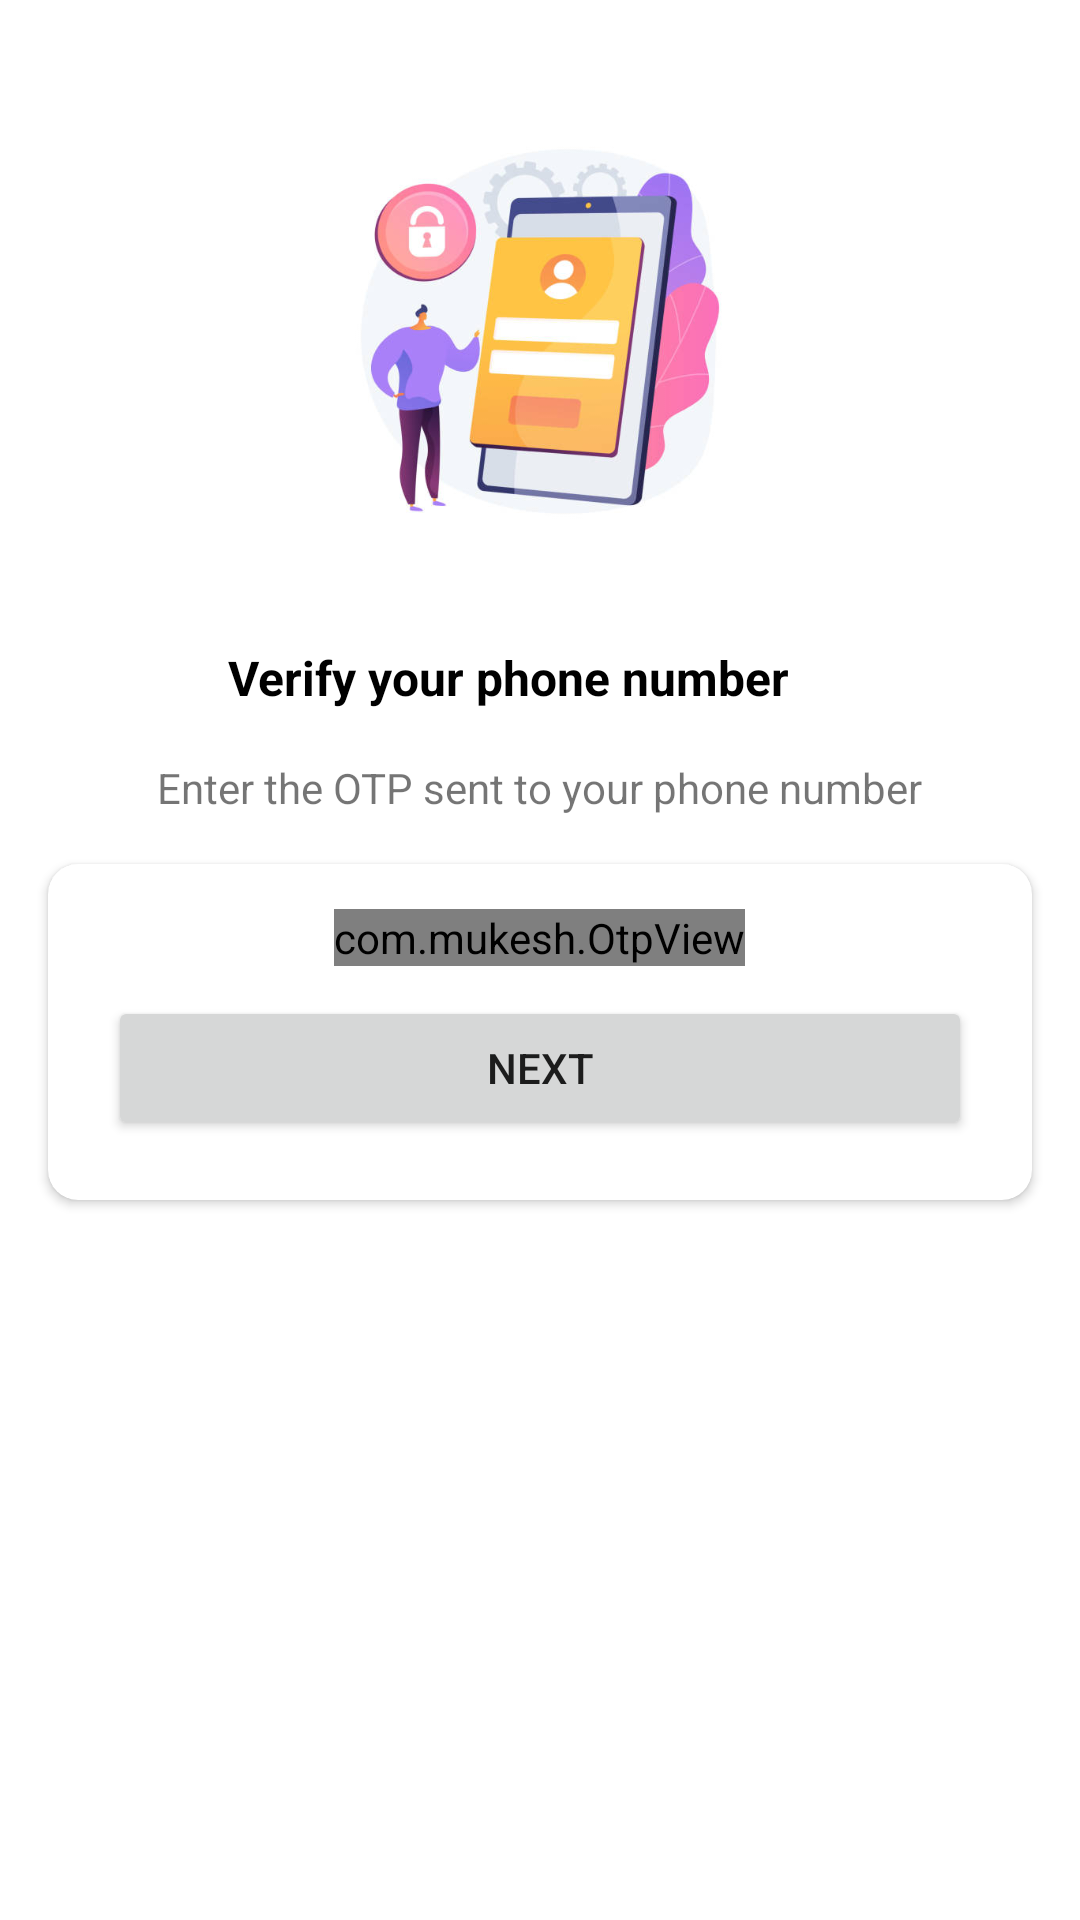

Icons on this 1080w x 1920h Android screen, each with the point to tap as point (x, y):
phoneauth: point (545, 336)
